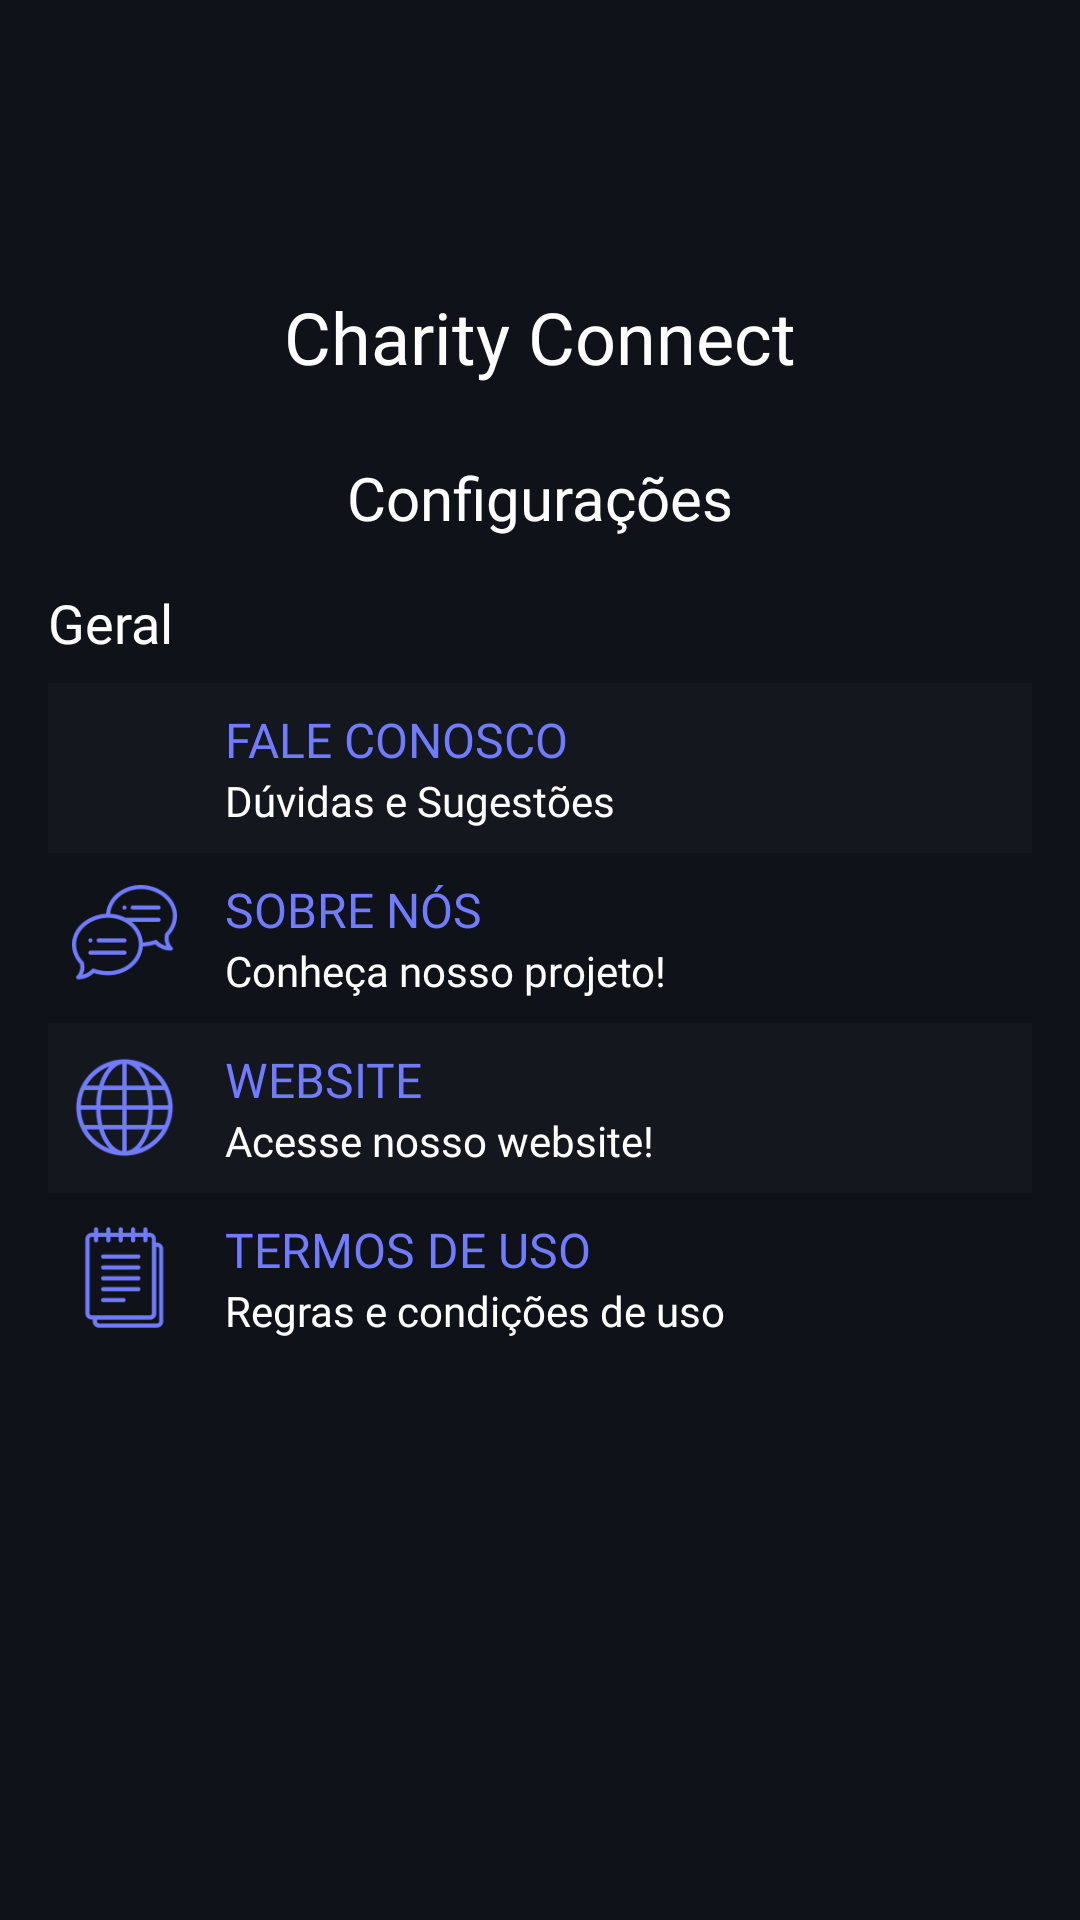

Screen size 1080*1920. Icon name, then its center in pixels as [x,y]:
balaodefala: [124,932]
notas: [124,1277]
